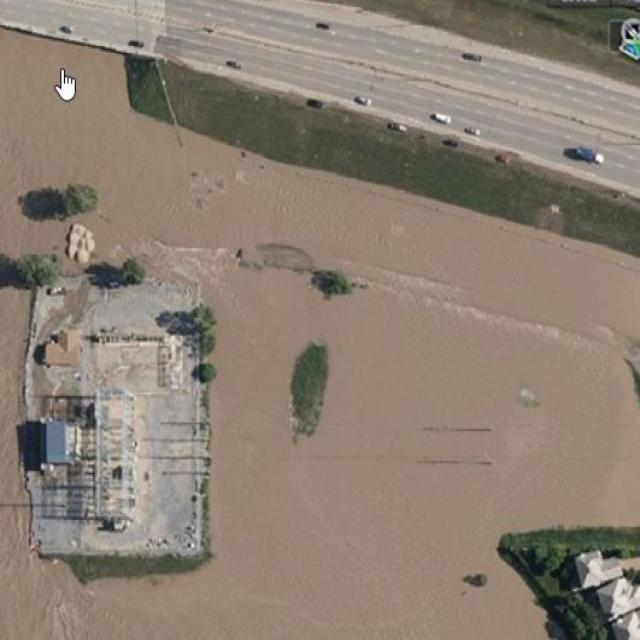flooded_areas: (4, 114, 518, 614)
